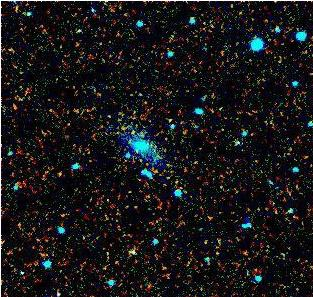star: (172, 122, 202, 152)
